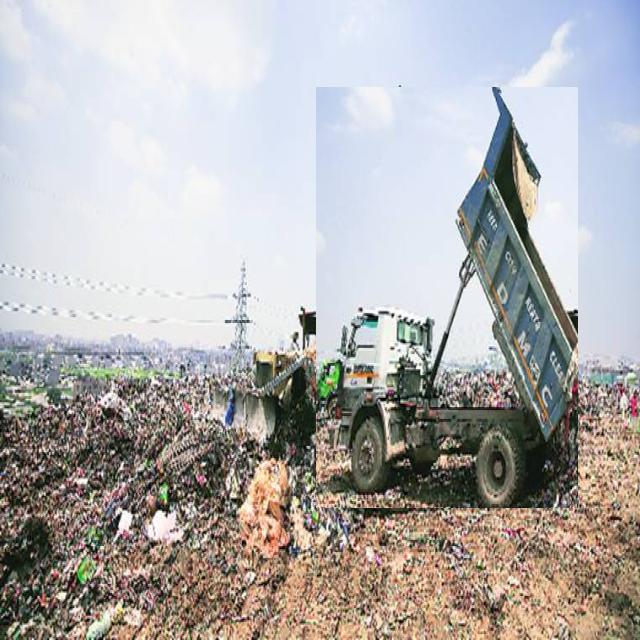truck: (316, 88, 578, 508)
